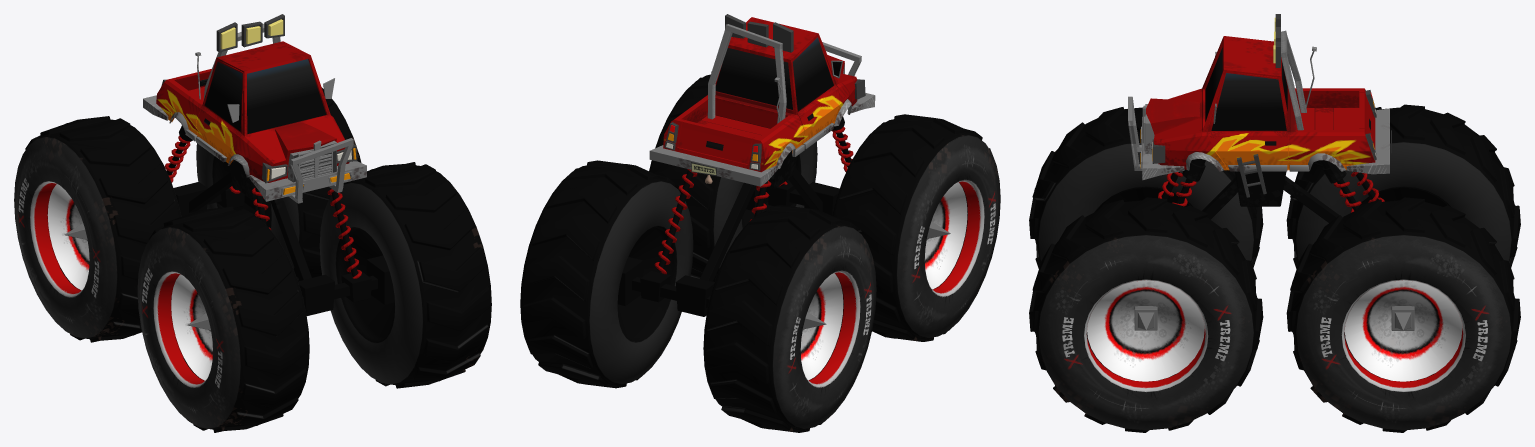
Rendered from monster_truck.fbx.
3 renders of one model, left to right at view 1: azimuth 30°, elevation 25°; view 2: azimuth 150°, elevation 25°; view 3: azimuth 270°, elevation 25°, orthographic. The views are drawn at different scales.
Visible parts, largest first — view 1: GEO_WheelFront.R, GEO_WheelFront.L, GEO_WheelBack.R, GEO_Chassis, GEO_Windows, GEO_WheelBack.L, GEO_Axis, GEO_Connections, GEO_FrontBumper, GEO_LightsMiddle, GEO_FrontLights; view 2: GEO_WheelBack.R, GEO_WheelBack.L, GEO_WheelFront.R, GEO_Chassis, GEO_WheelFront.L, GEO_Windows, GEO_Axis, GEO_Connections, GEO_LightsMiddle, GEO_RearBumper, GEO_FrontBumper, GEO_Backlights; view 3: GEO_WheelBack.L, GEO_WheelFront.L, GEO_Chassis, GEO_WheelBack.R, GEO_WheelFront.R, GEO_Windows, GEO_Connections, GEO_FrontBumper, GEO_LightsMiddle, GEO_RearBumper, GEO_Ladder, GEO_SideBumpers.
Boxes of the visible parts, x1=… form: GEO_WheelFront.R: x1=137, y1=206, x2=309, y2=432; GEO_WheelFront.L: x1=319, y1=162, x2=491, y2=388; GEO_WheelBack.R: x1=14, y1=116, x2=181, y2=342; GEO_Chassis: x1=156, y1=41, x2=349, y2=200; GEO_Windows: x1=204, y1=59, x2=326, y2=133; GEO_WheelBack.L: x1=196, y1=87, x2=361, y2=281; GEO_Axis: x1=173, y1=182, x2=394, y2=315; GEO_Connections: x1=164, y1=126, x2=361, y2=280; GEO_FrontBumper: x1=249, y1=138, x2=366, y2=203; GEO_LightsMiddle: x1=203, y1=14, x2=284, y2=100; GEO_FrontLights: x1=262, y1=144, x2=357, y2=183; GEO_WheelBack.R: x1=703, y1=205, x2=876, y2=432; GEO_WheelBack.L: x1=520, y1=160, x2=693, y2=388; GEO_WheelFront.R: x1=832, y1=114, x2=1000, y2=341; GEO_Chassis: x1=663, y1=17, x2=857, y2=188; GEO_WheelFront.L: x1=649, y1=71, x2=817, y2=282; GEO_Windows: x1=715, y1=37, x2=833, y2=111; GEO_Axis: x1=617, y1=179, x2=839, y2=316; GEO_Connections: x1=654, y1=116, x2=853, y2=281; GEO_LightsMiddle: x1=707, y1=14, x2=793, y2=123; GEO_RearBumper: x1=649, y1=145, x2=777, y2=186; GEO_FrontBumper: x1=822, y1=42, x2=875, y2=113; GEO_Backlights: x1=664, y1=122, x2=761, y2=170; GEO_WheelBack.L: x1=1286, y1=197, x2=1520, y2=432; GEO_WheelFront.L: x1=1029, y1=197, x2=1263, y2=432; GEO_Chassis: x1=1146, y1=36, x2=1375, y2=206; GEO_WheelBack.R: x1=1286, y1=104, x2=1520, y2=268; GEO_WheelFront.R: x1=1029, y1=107, x2=1263, y2=268; GEO_Windows: x1=1205, y1=47, x2=1287, y2=130; GEO_Connections: x1=1158, y1=159, x2=1384, y2=222; GEO_FrontBumper: x1=1128, y1=96, x2=1184, y2=180; GEO_LightsMiddle: x1=1273, y1=14, x2=1306, y2=130; GEO_RearBumper: x1=1346, y1=108, x2=1389, y2=174; GEO_Ladder: x1=1237, y1=154, x2=1266, y2=197; GEO_SideBumpers: x1=1228, y1=165, x2=1309, y2=171.
Bounding box in the file's own units: 842 × 1015 × 1299.
